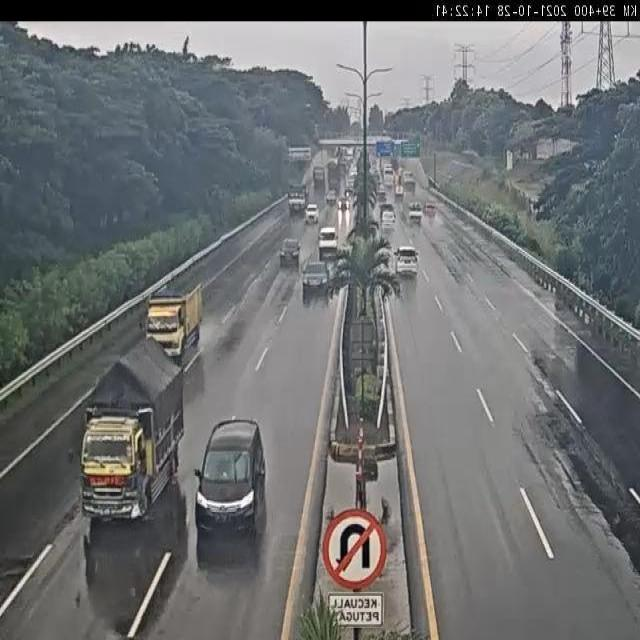Bus: (383, 167, 395, 189)
Car: (193, 419, 268, 537), (302, 258, 330, 296), (395, 245, 419, 277), (280, 238, 302, 266), (304, 202, 320, 225), (424, 202, 436, 218), (338, 198, 350, 212), (326, 189, 337, 204)
Truck: (74, 336, 187, 520), (137, 275, 204, 362), (318, 226, 338, 259), (287, 182, 308, 213), (406, 201, 424, 223), (327, 165, 341, 191), (311, 163, 325, 186)
Van: (381, 209, 396, 230)
